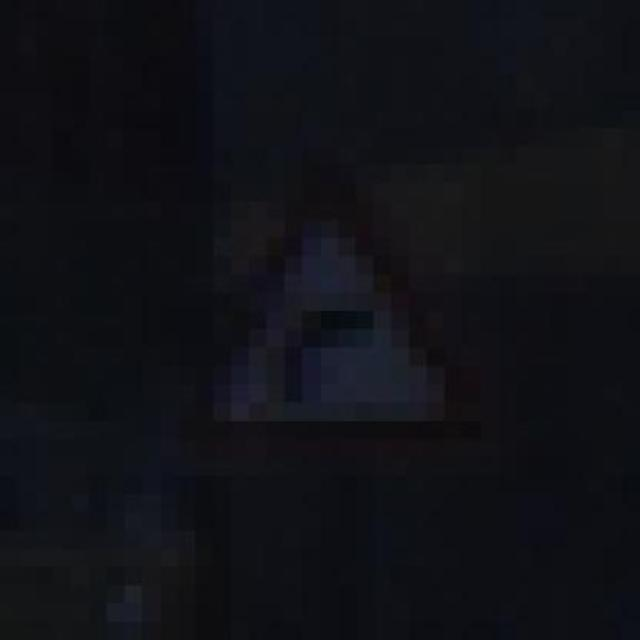Dangerous Rright Curve Ahead: (160, 147, 480, 476)
